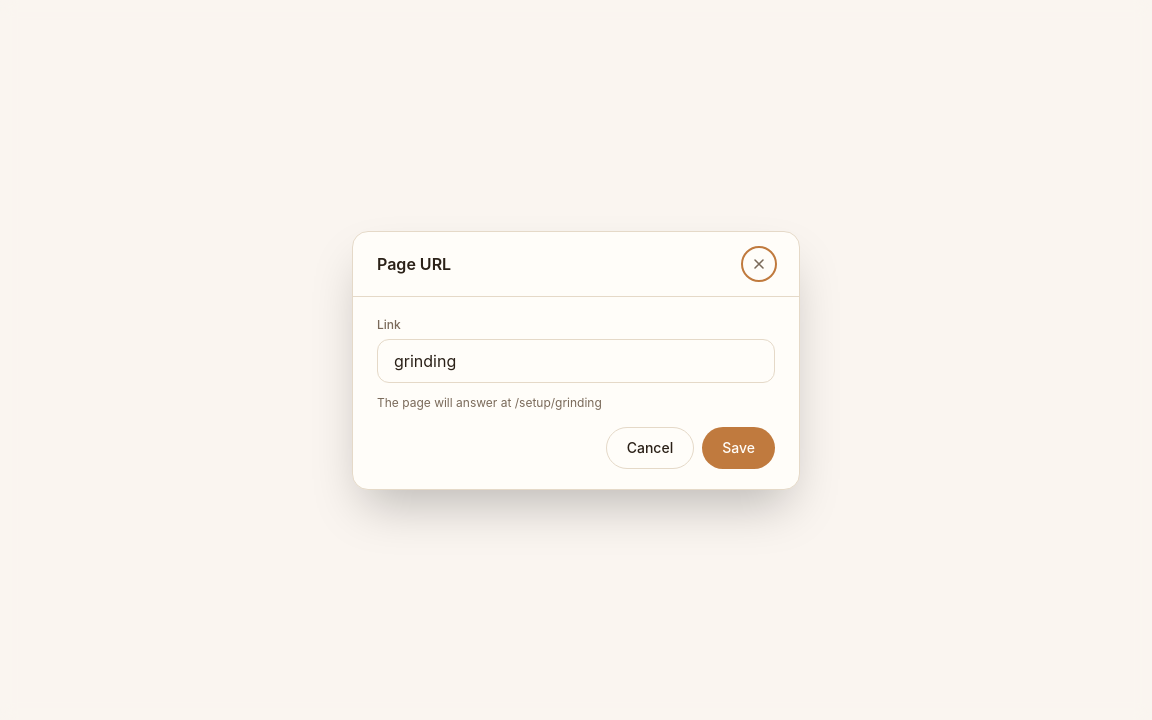
ChangePageUrlDialog › reports a slug another page already uses
Replace the text in the field labelled "Link" with "brewing" at coordinates (576, 360), box [377, 338, 775, 382]
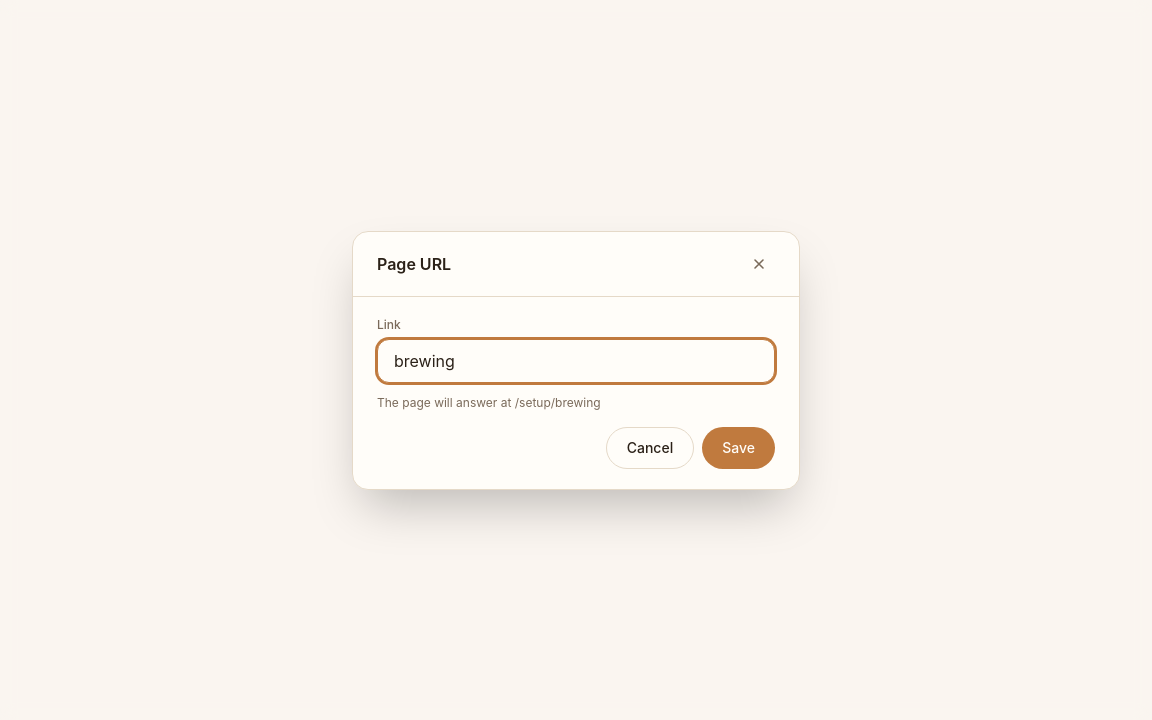
Click the button "Save" at coordinates (739, 448), box [702, 426, 775, 468]
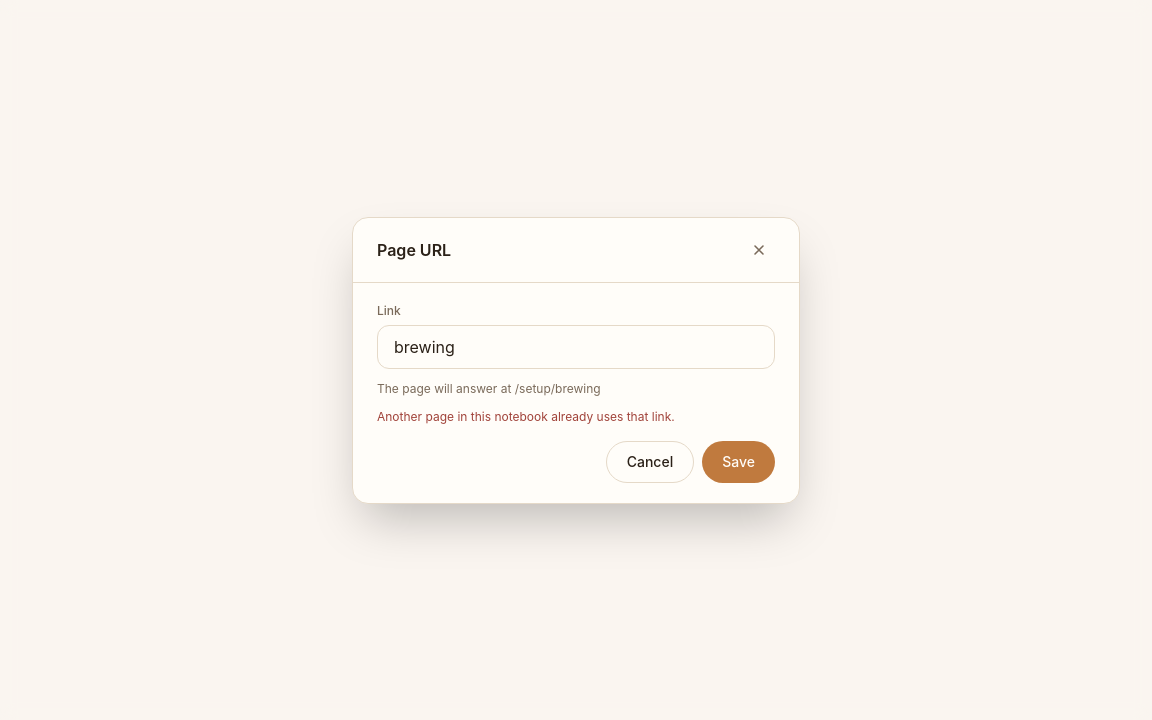
Expected: the message reads "Another page in this notebook already uses that link.", [377, 408, 675, 424]
